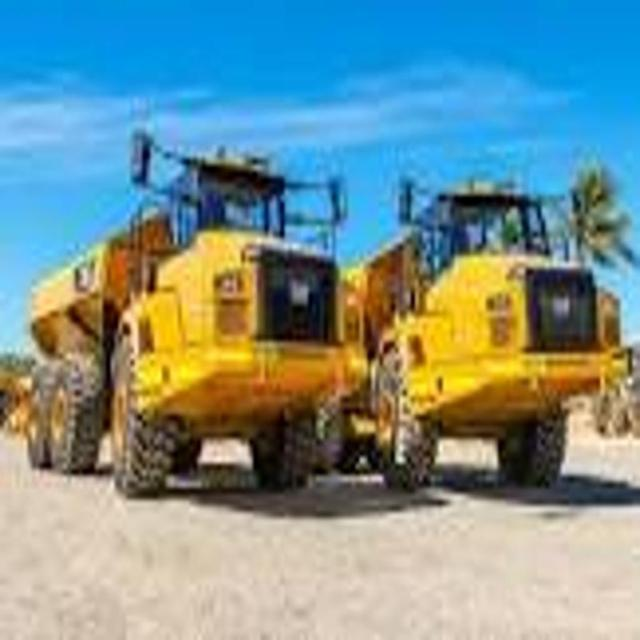dump_truck: (26, 116, 361, 497), (350, 156, 632, 495)
